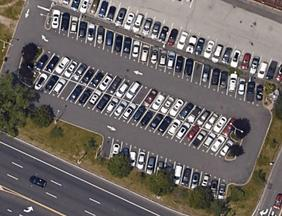parkingspot: (49, 8, 266, 109), (32, 48, 246, 139), (28, 69, 238, 161), (59, 0, 282, 86), (100, 133, 229, 203)
